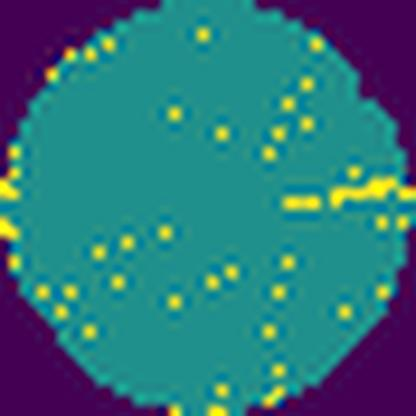Scratch: (278, 174, 400, 216)
